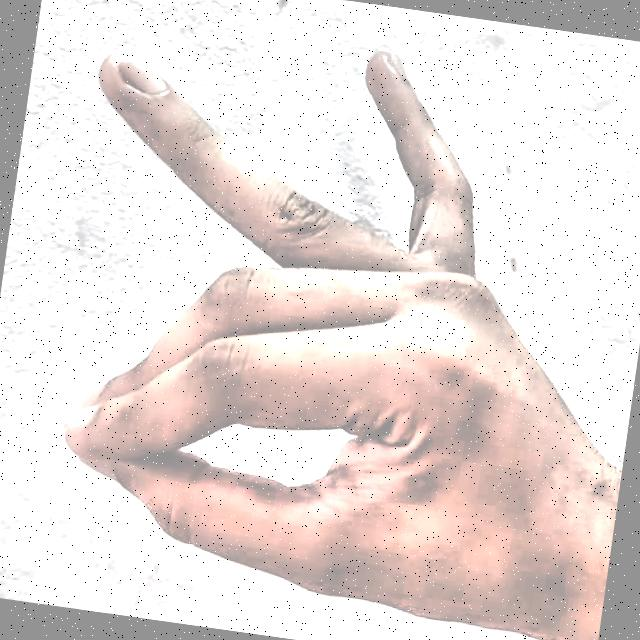Na: (11, 0, 610, 640)
